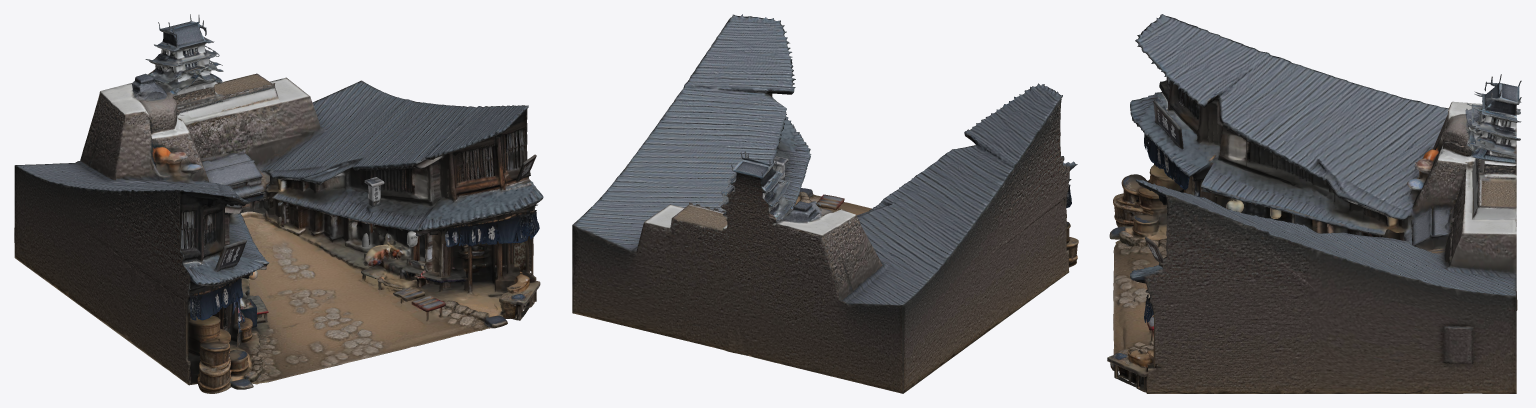
File: tripo_convert_43b2ee72-bca9-493a-98f3-2ac6c06ecafc.fbx
The picture shows the model from 3 angles, left to right: view 1: azimuth 30°, elevation 25°; view 2: azimuth 150°, elevation 25°; view 3: azimuth 270°, elevation 25°; orthographic projection. The views are drawn at different scales.
Parts seen in each view (by area): view 1: tripo_node_43b2ee72; view 2: tripo_node_43b2ee72; view 3: tripo_node_43b2ee72.
Boxes of the visible parts, x1,y1,x2,y2 form: tripo_node_43b2ee72: [14, 14, 543, 393]; tripo_node_43b2ee72: [572, 14, 1078, 393]; tripo_node_43b2ee72: [1107, 14, 1521, 393].
Size of the model in its own units: 0.991 by 0.5575 by 0.9592.
1 material, 1 textured.
